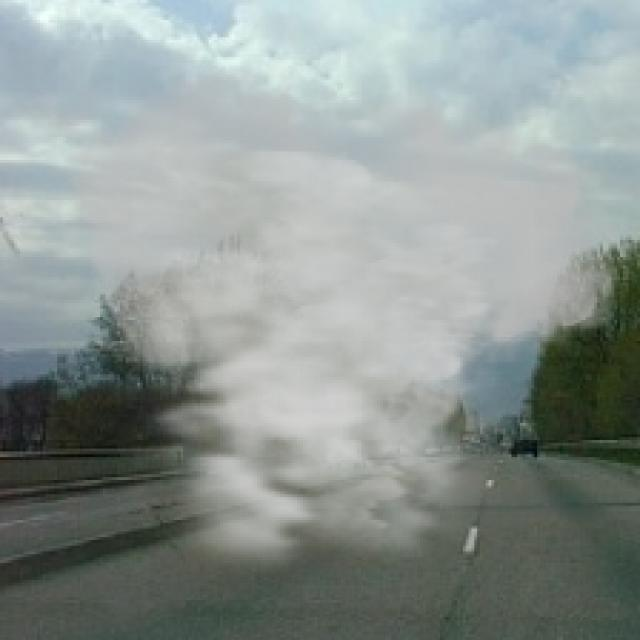smoke: (60, 63, 626, 594)
